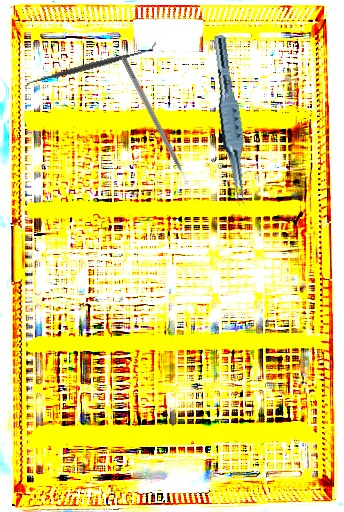Hook Surgical: (119, 55, 195, 194)
Spatula Surgical: (22, 40, 160, 91)
Tissue Forceps: (203, 34, 256, 207)
